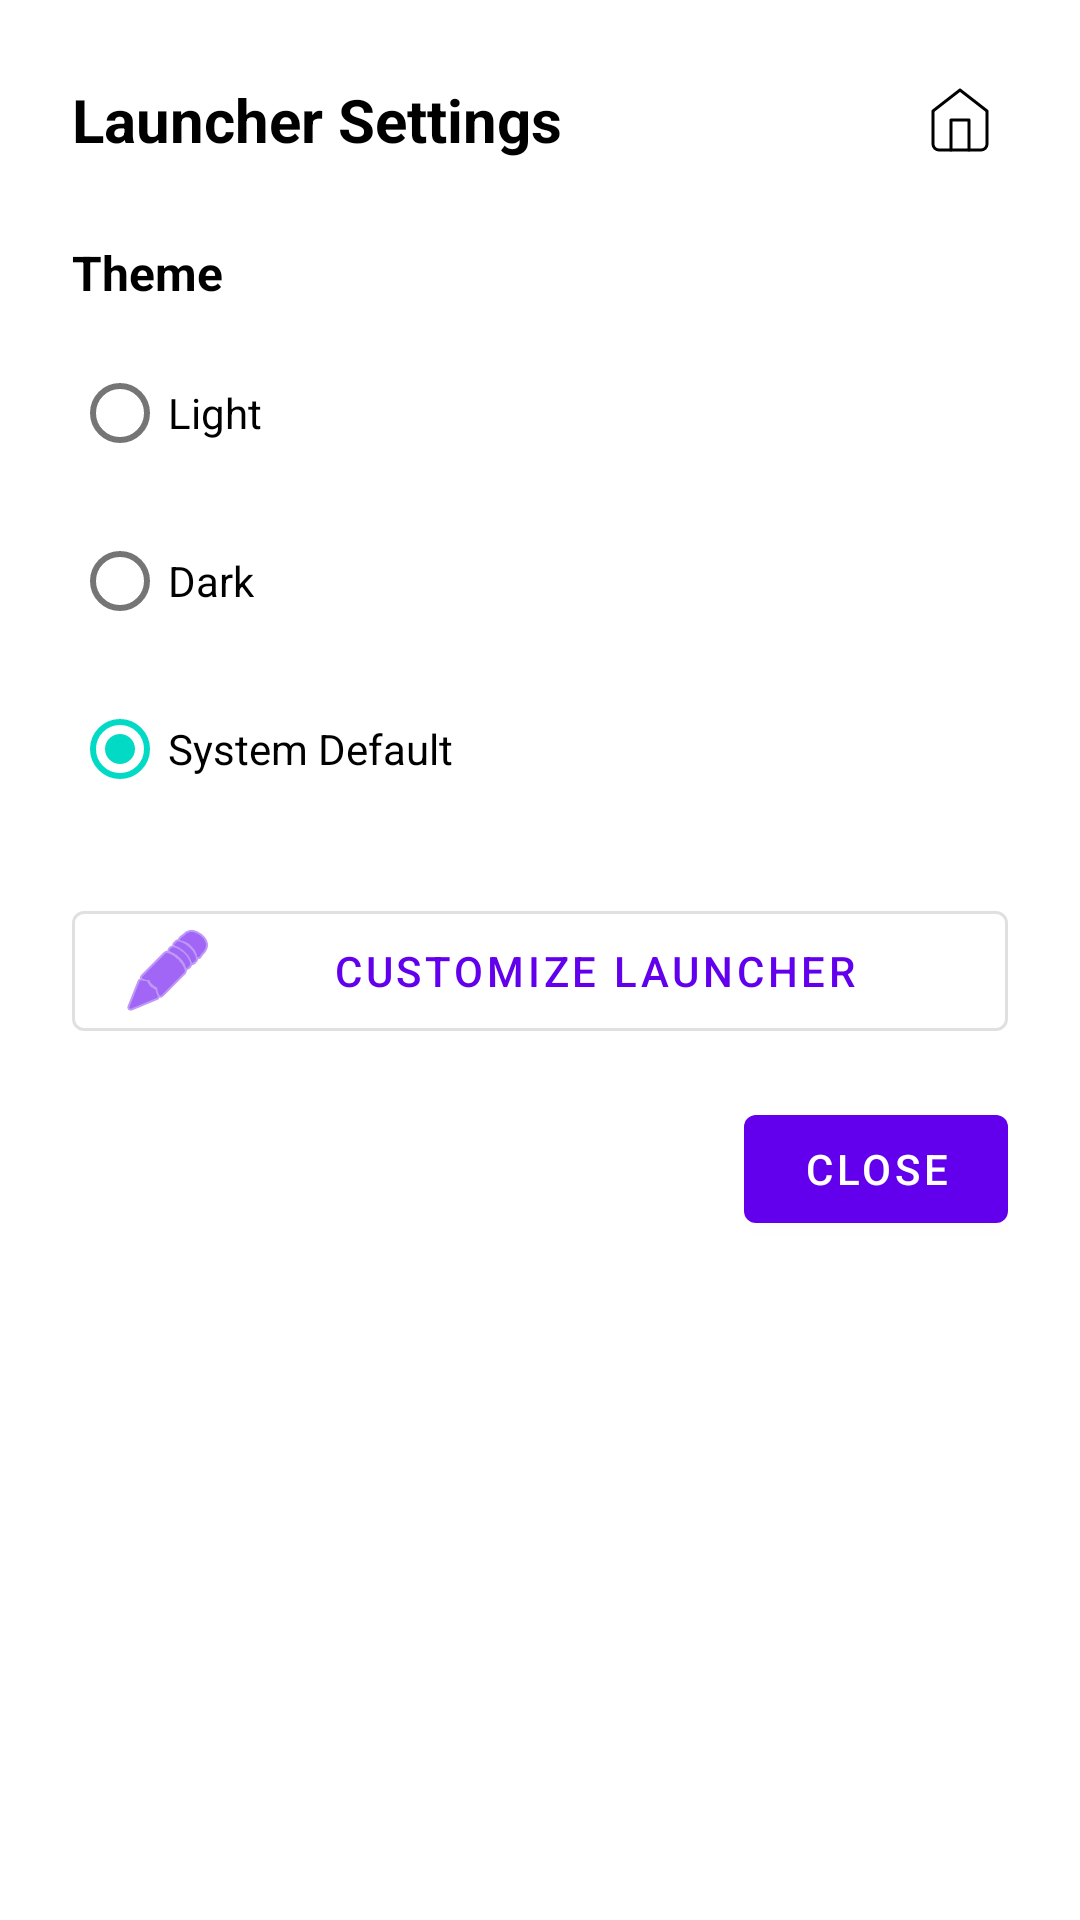

Icon bounding boxes for this 1080×1920 phone screenshot, format bbox=(x1, y1, x2, y2):
Back to Launcher: bbox=(931, 88, 989, 152)
